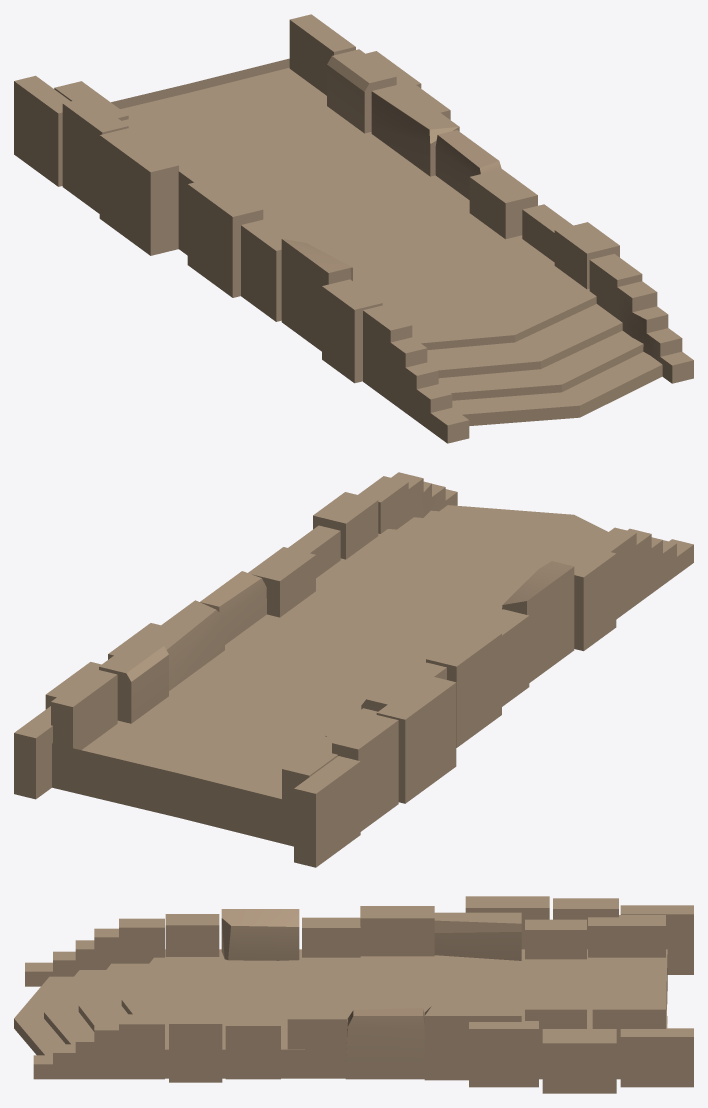
The model's file is Stone floor stairs.FBX.
3 renders of one model, top to bottom at view 1: azimuth 30°, elevation 25°; view 2: azimuth 150°, elevation 25°; view 3: azimuth 270°, elevation 25°, orthographic. The views are drawn at different scales.
Visible parts, largest first — view 1: Stone floor stairs; view 2: Stone floor stairs; view 3: Stone floor stairs.
Part boxes in pixels (<box>): Stone floor stairs: <box>14,14,693,443</box>; Stone floor stairs: <box>14,472,693,867</box>; Stone floor stairs: <box>14,896,693,1093</box>.
Size of the model in its own units: 26.7 by 6.77 by 59.97.
